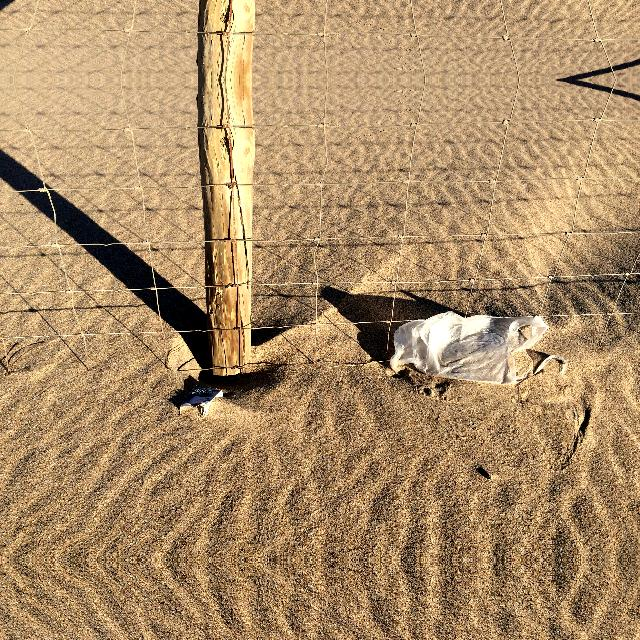Paper: (175, 382, 225, 420)
Plastic: (382, 306, 570, 390)
